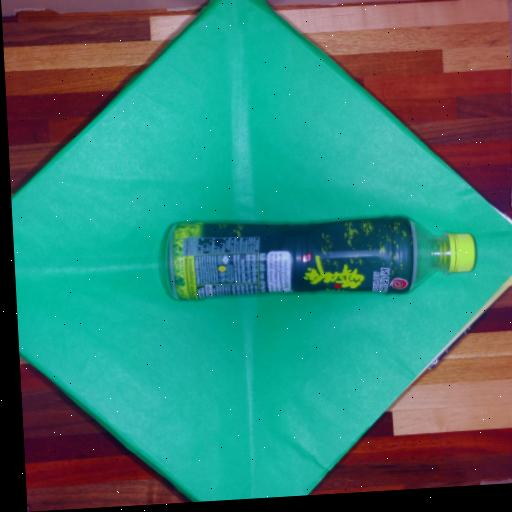bottle: (146, 181, 488, 328)
